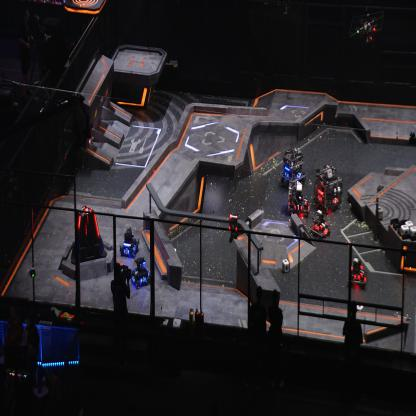car: (314, 165, 344, 214), (279, 147, 306, 186), (286, 180, 312, 217), (347, 256, 369, 290), (309, 208, 331, 240), (130, 256, 150, 289), (119, 227, 140, 258)
